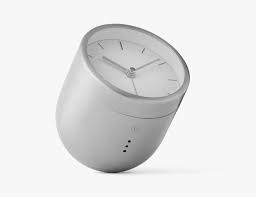alarm_clock: (54, 19, 189, 172)
